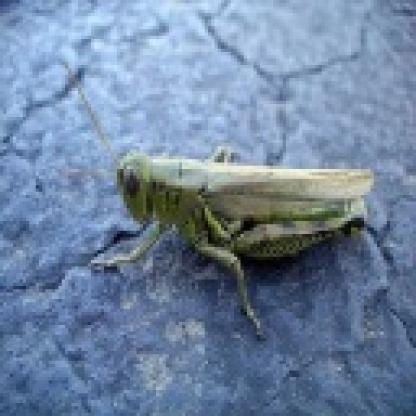grasshopper: (104, 152, 371, 338)
